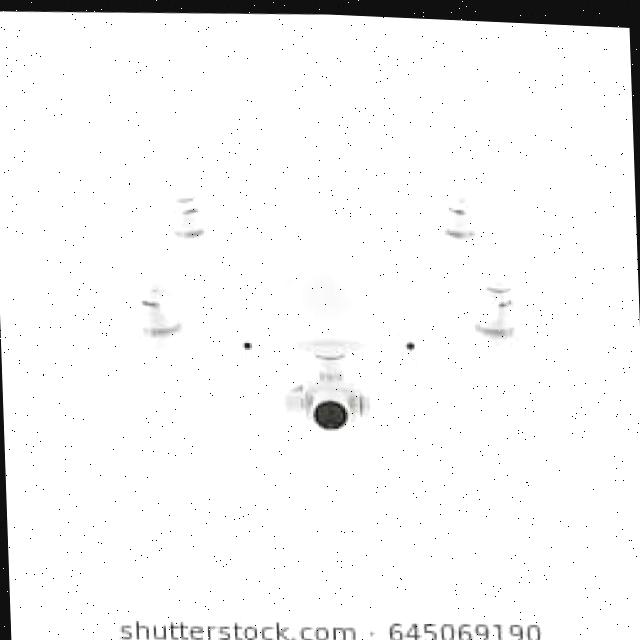drone: (0, 37, 640, 509)
